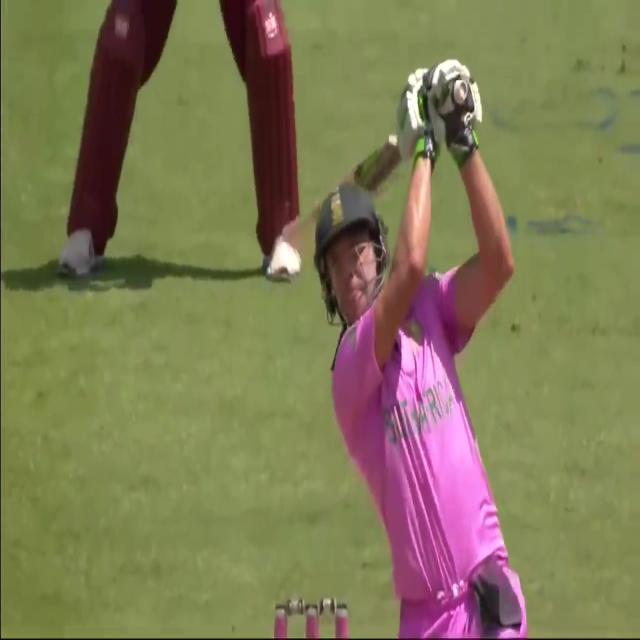Ball: (298, 14, 530, 638)
